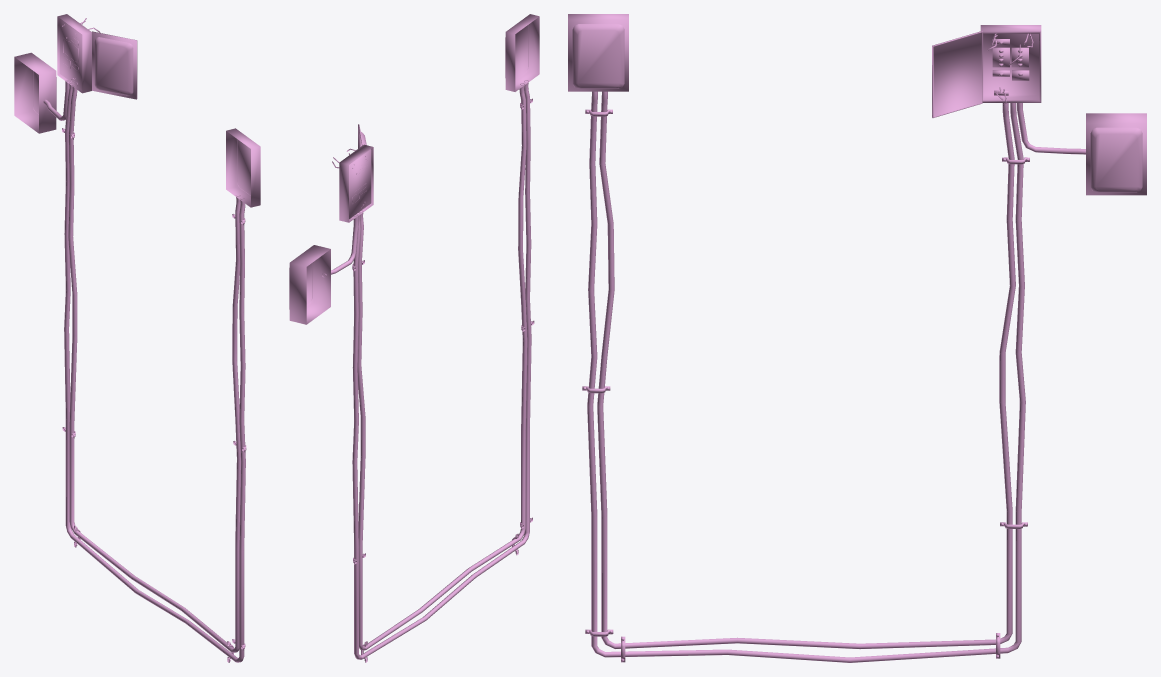
Rendered from wire1.fbx.
3 views of the same model, side by side, from view 1: azimuth 30°, elevation 25°; view 2: azimuth 150°, elevation 25°; view 3: azimuth 270°, elevation 25° (orthographic). The views are drawn at different scales.
Visible parts, largest first — view 1: wall_wires2; view 2: wall_wires2; view 3: wall_wires2.
Boxes of the visible parts, box(x1,y1,x2,y2) form: wall_wires2: box(14, 14, 260, 662); wall_wires2: box(289, 14, 539, 662); wall_wires2: box(568, 14, 1146, 662).
Bounding box in the file's own units: 11.25 × 160 × 129.
